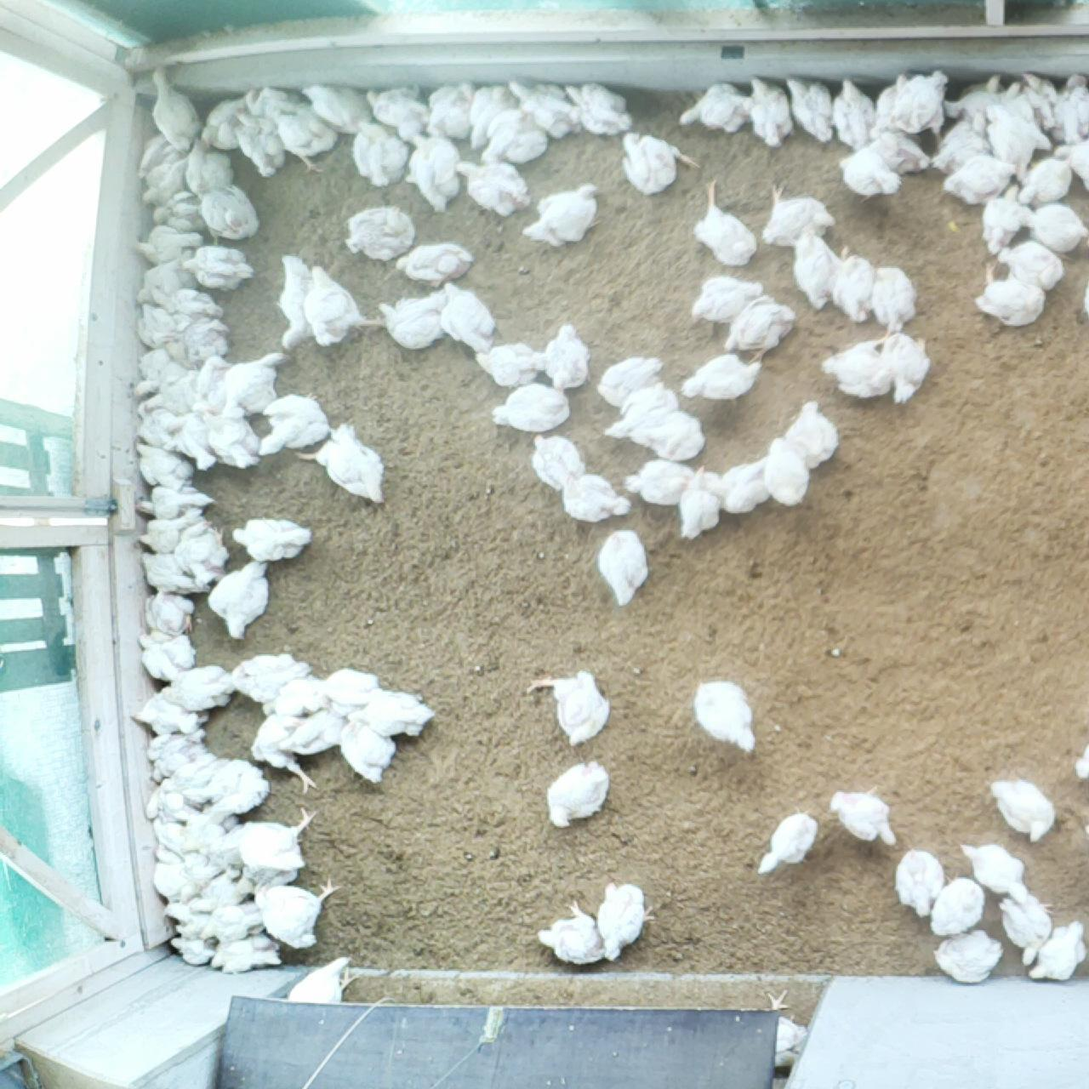chicken: (203, 804, 325, 877), (291, 420, 390, 505), (303, 263, 391, 354), (251, 876, 348, 951), (523, 670, 613, 748), (690, 175, 761, 270), (248, 709, 323, 796), (520, 181, 610, 252), (208, 347, 292, 422), (716, 294, 808, 362), (403, 127, 468, 220), (615, 132, 704, 199), (449, 153, 536, 220), (208, 555, 275, 640), (504, 77, 589, 144), (256, 387, 332, 461), (983, 95, 1055, 171), (811, 335, 894, 400), (545, 461, 632, 523), (597, 880, 659, 963), (603, 384, 683, 448), (975, 259, 1048, 329), (185, 756, 273, 814), (694, 679, 761, 755), (533, 898, 607, 966), (377, 283, 452, 350), (364, 81, 436, 150), (546, 758, 614, 830), (1001, 881, 1058, 966), (488, 379, 574, 435), (560, 79, 640, 139), (150, 63, 205, 150), (598, 527, 656, 609), (790, 222, 845, 308), (198, 184, 265, 254), (687, 274, 769, 331), (759, 433, 819, 510), (941, 152, 1019, 211), (828, 784, 900, 847), (957, 841, 1030, 903), (231, 106, 293, 179), (778, 403, 844, 471), (481, 104, 553, 166), (347, 690, 438, 739), (867, 261, 928, 334), (882, 330, 941, 405), (337, 716, 401, 785), (979, 179, 1034, 259), (990, 776, 1057, 841), (346, 200, 416, 262), (226, 650, 311, 701), (628, 408, 709, 461), (439, 278, 497, 352), (677, 81, 755, 136), (714, 450, 778, 517), (476, 340, 559, 391), (677, 352, 763, 401), (755, 811, 820, 875), (542, 322, 598, 396), (892, 847, 950, 918), (163, 662, 245, 712), (784, 77, 845, 144), (930, 928, 1004, 983), (624, 457, 702, 509), (676, 465, 728, 543), (299, 84, 378, 135), (148, 729, 221, 784), (271, 112, 339, 171), (349, 123, 408, 191), (391, 240, 476, 287), (278, 251, 318, 350), (596, 353, 672, 405), (864, 75, 922, 143), (1011, 65, 1067, 135), (156, 408, 223, 466), (1028, 921, 1089, 984), (465, 84, 524, 149), (837, 146, 905, 202), (285, 955, 361, 1005), (998, 241, 1068, 295), (860, 127, 934, 178), (145, 839, 222, 888), (201, 408, 263, 468), (309, 667, 387, 714), (198, 90, 257, 152), (182, 138, 240, 201), (831, 78, 881, 151), (747, 76, 795, 152), (128, 695, 214, 737), (238, 514, 316, 560), (899, 65, 954, 130), (130, 255, 197, 308), (929, 875, 987, 936), (183, 246, 256, 294), (831, 249, 879, 322), (1014, 153, 1081, 205), (173, 517, 227, 581), (163, 318, 232, 368), (929, 117, 992, 171), (133, 438, 198, 490), (257, 677, 335, 720), (140, 549, 211, 596), (197, 899, 271, 944), (196, 348, 241, 422), (137, 629, 202, 680), (134, 221, 203, 269), (150, 282, 230, 323), (187, 867, 255, 915), (1048, 81, 1089, 158), (133, 300, 198, 348), (1028, 201, 1089, 252), (426, 79, 478, 138), (133, 486, 215, 523), (137, 513, 210, 554), (212, 934, 286, 974), (232, 855, 304, 896), (135, 130, 194, 180), (533, 435, 587, 489), (973, 82, 1029, 134), (140, 152, 191, 209), (145, 781, 205, 828), (246, 84, 314, 125), (952, 76, 1006, 127), (134, 373, 201, 414), (152, 862, 211, 907), (134, 347, 188, 396), (145, 815, 206, 856), (163, 902, 224, 942), (140, 591, 196, 634), (151, 193, 205, 233), (1058, 133, 1089, 192), (167, 933, 220, 966), (140, 403, 178, 447), (1050, 72, 1089, 110), (1075, 744, 1089, 782), (1084, 282, 1089, 322)
